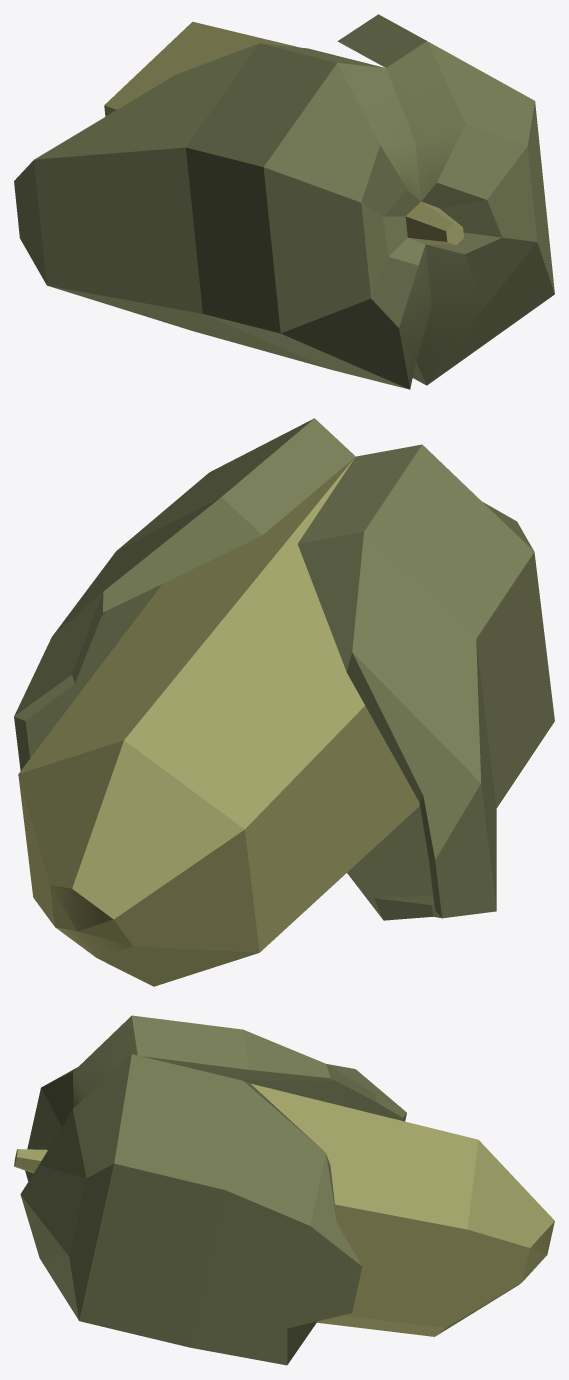
The picture shows the model from 3 angles, top to bottom: view 1: azimuth 30°, elevation 25°; view 2: azimuth 150°, elevation 25°; view 3: azimuth 270°, elevation 25°; orthographic projection. The views are drawn at different scales.
Parts seen in each view (by area): view 1: 玉米_pCylinder8; view 2: 玉米_pCylinder8; view 3: 玉米_pCylinder8.
Boxes of the visible parts, x1,y1,x2,y2 form: 玉米_pCylinder8: [14, 14, 554, 389]; 玉米_pCylinder8: [14, 418, 554, 986]; 玉米_pCylinder8: [14, 1015, 554, 1365].
Bounding box in the file's own units: 18.21 × 15.3 × 25.08.
